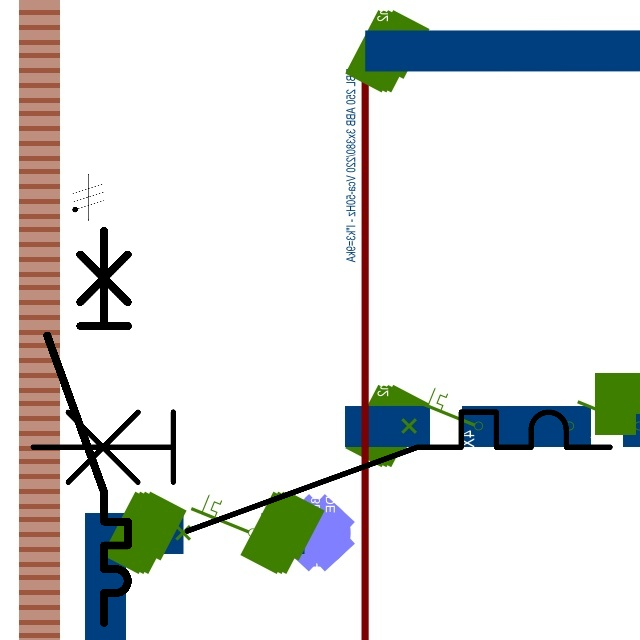interruptor_termomagnetico: (18, 397, 625, 545), (37, 220, 138, 633)
